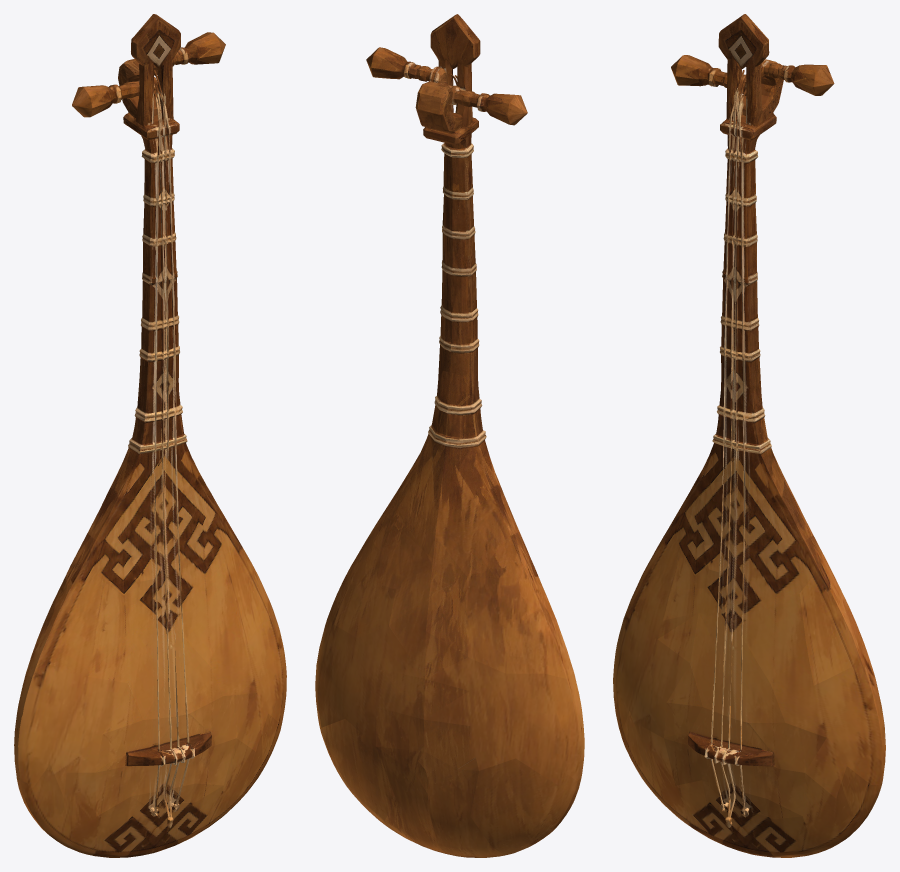
Rendered from dombra.glb.
3 renders of one model, left to right at view 1: azimuth 30°, elevation 25°; view 2: azimuth 150°, elevation 25°; view 3: azimuth 330°, elevation 25°, orthographic.
Size of the model in its own units: 0.6351 by 1.9 by 0.2349.
Materials: 1 (1 with a texture image).
